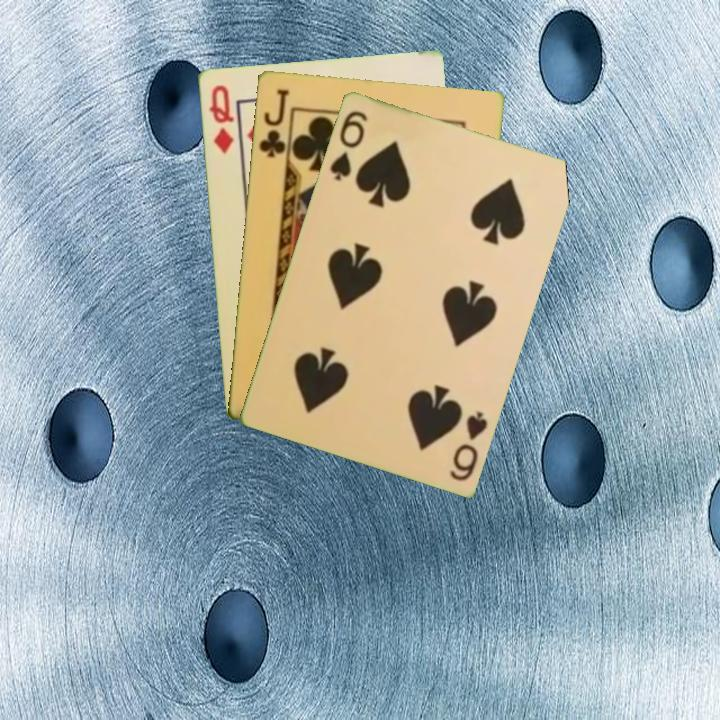6s: (445, 407, 491, 484), (326, 106, 370, 183)
Jc: (255, 85, 291, 160)
Qd: (205, 80, 236, 156)
